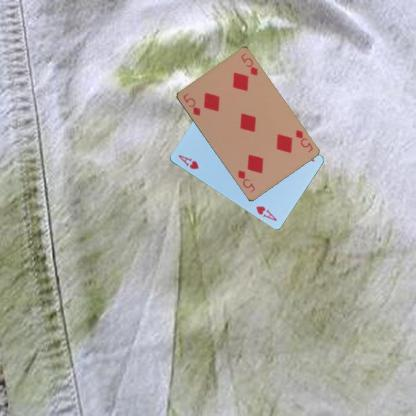5d: (180, 90, 202, 117), (292, 127, 314, 154)
Ah: (176, 152, 200, 170)
